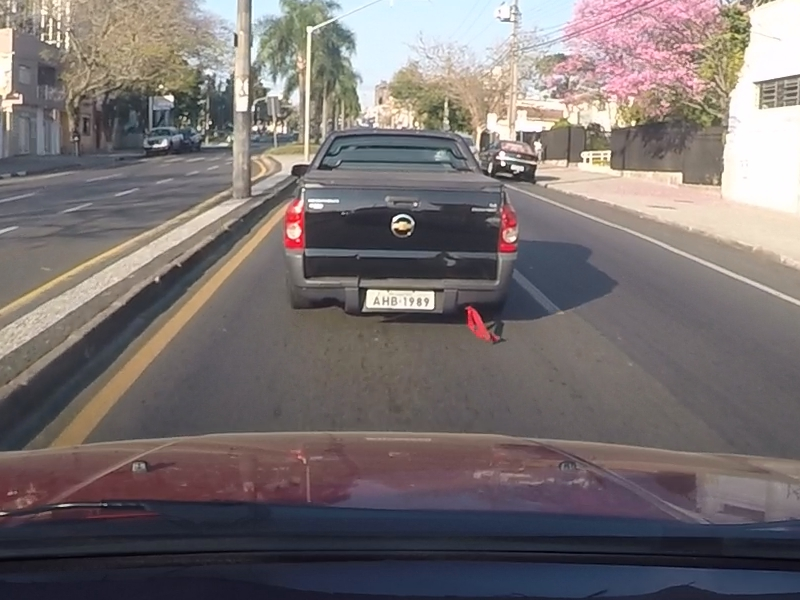placa: (366, 290, 435, 310)
